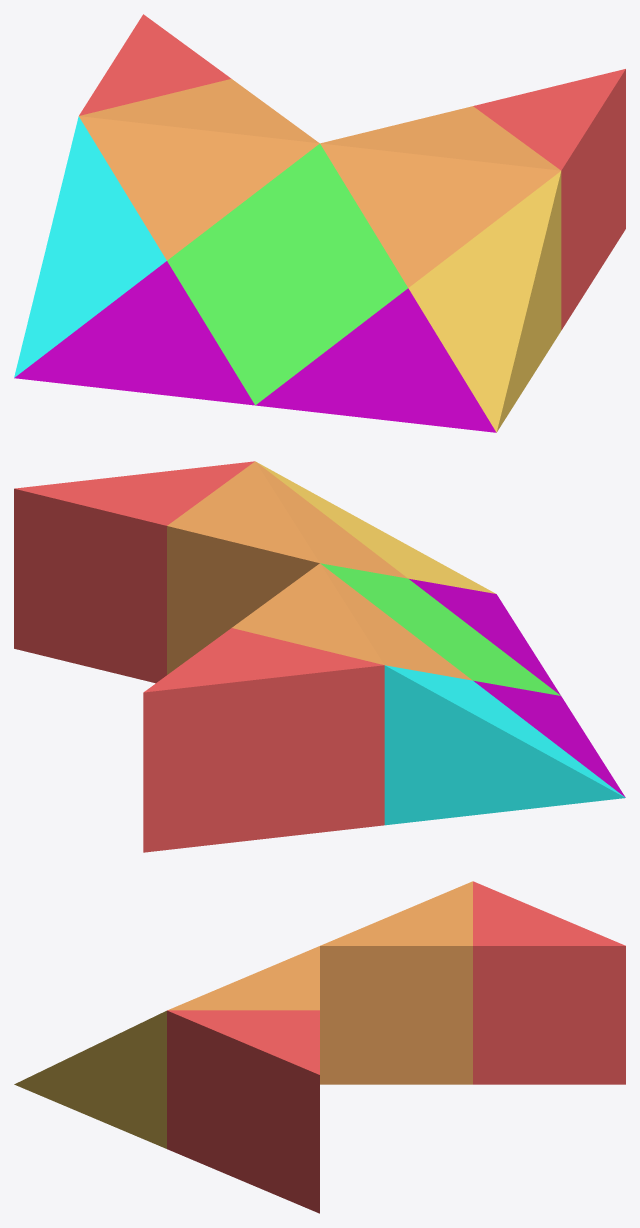
The model's file is Rampa_CtN.obj.
3 renders of one model, top to bottom at view 1: azimuth 30°, elevation 25°; view 2: azimuth 150°, elevation 25°; view 3: azimuth 270°, elevation 25°, orthographic. The views are drawn at different scales.
Visible parts, largest first — view 1: Mesh2 Cuna_central1 Group1 Model, Mesh7 Cuna_arriba2 Group1 Model, Mesh6 Cuna_arriba1 Group1 Model, Mesh3 Cuna_lat_der1 Group1 Model, Mesh8 diag_lat1 Model, Mesh4 Cuna_lat_izq1 Group1 Model, Mesh1 Cuna_bajo1 Group1 Model, Mesh5 Cuna_bajo2 Group1 Model, Mesh9 diag_lat2 Model; view 2: Mesh9 diag_lat2 Model, Mesh8 diag_lat1 Model, Mesh4 Cuna_lat_izq1 Group1 Model, Mesh6 Cuna_arriba1 Group1 Model, Mesh7 Cuna_arriba2 Group1 Model, Mesh2 Cuna_central1 Group1 Model, Mesh3 Cuna_lat_der1 Group1 Model, Mesh1 Cuna_bajo1 Group1 Model, Mesh5 Cuna_bajo2 Group1 Model; view 3: Mesh7 Cuna_arriba2 Group1 Model, Mesh8 diag_lat1 Model, Mesh9 diag_lat2 Model, Mesh3 Cuna_lat_der1 Group1 Model, Mesh6 Cuna_arriba1 Group1 Model.
Part boxes in pixels (bbox=[...]): Mesh2 Cuna_central1 Group1 Model: bbox=[167, 143, 407, 405]; Mesh7 Cuna_arriba2 Group1 Model: bbox=[79, 79, 319, 260]; Mesh6 Cuna_arriba1 Group1 Model: bbox=[320, 106, 560, 287]; Mesh3 Cuna_lat_der1 Group1 Model: bbox=[408, 171, 561, 432]; Mesh8 diag_lat1 Model: bbox=[473, 69, 625, 330]; Mesh4 Cuna_lat_izq1 Group1 Model: bbox=[14, 116, 166, 377]; Mesh1 Cuna_bajo1 Group1 Model: bbox=[14, 261, 254, 405]; Mesh5 Cuna_bajo2 Group1 Model: bbox=[255, 288, 496, 432]; Mesh9 diag_lat2 Model: bbox=[79, 14, 231, 115]; Mesh9 diag_lat2 Model: bbox=[143, 628, 384, 852]; Mesh8 diag_lat1 Model: bbox=[14, 461, 254, 683]; Mesh4 Cuna_lat_izq1 Group1 Model: bbox=[384, 665, 625, 825]; Mesh6 Cuna_arriba1 Group1 Model: bbox=[167, 461, 407, 674]; Mesh7 Cuna_arriba2 Group1 Model: bbox=[232, 563, 472, 680]; Mesh2 Cuna_central1 Group1 Model: bbox=[320, 563, 560, 695]; Mesh3 Cuna_lat_der1 Group1 Model: bbox=[256, 462, 495, 593]; Mesh1 Cuna_bajo1 Group1 Model: bbox=[473, 680, 625, 797]; Mesh5 Cuna_bajo2 Group1 Model: bbox=[409, 579, 560, 695]; Mesh7 Cuna_arriba2 Group1 Model: bbox=[320, 881, 472, 1084]; Mesh8 diag_lat1 Model: bbox=[167, 1010, 319, 1213]; Mesh9 diag_lat2 Model: bbox=[473, 881, 625, 1084]; Mesh3 Cuna_lat_der1 Group1 Model: bbox=[14, 1010, 166, 1148]; Mesh6 Cuna_arriba1 Group1 Model: bbox=[168, 946, 319, 1010].
Size of the model in its own units: 4 by 1 by 4.
